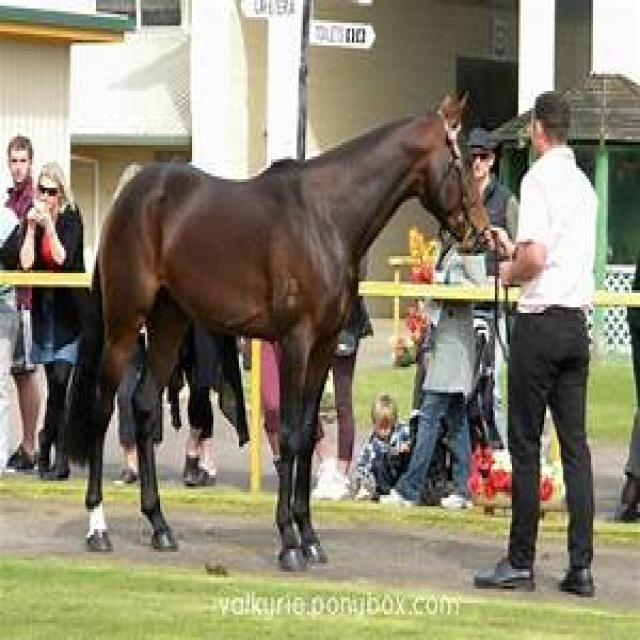horse: (64, 97, 493, 566)
